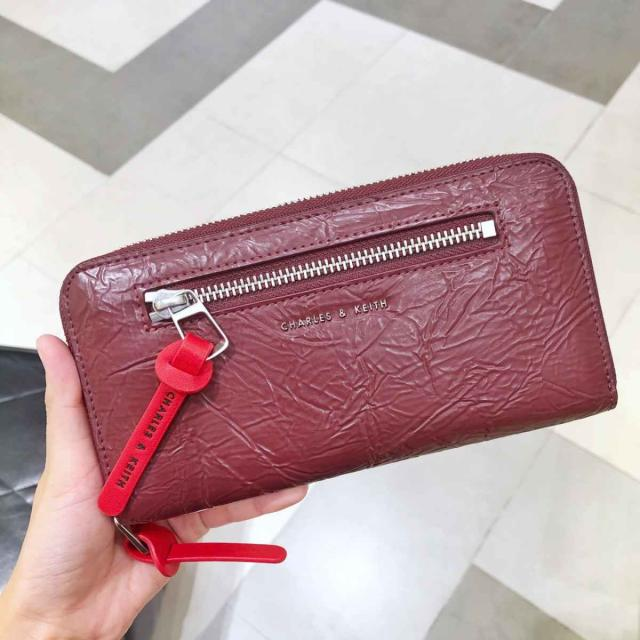Handbag: (57, 149, 617, 525)
